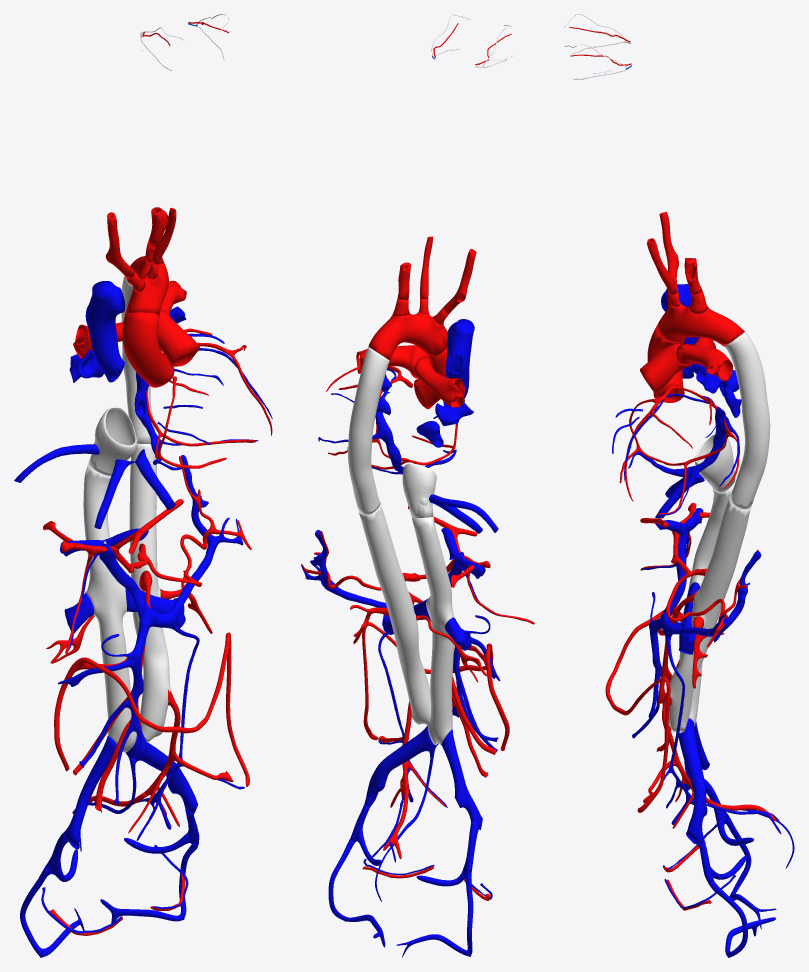
Rendered from vh_f_blood_vasculature-40.fbx.
3 renders of one model, left to right at view 1: azimuth 30°, elevation 25°; view 2: azimuth 150°, elevation 25°; view 3: azimuth 270°, elevation 25°, orthographic. The views are drawn at different scales.
Visible parts, largest first — view 1: VH_F_inferior_vena_cava_b, VH_F_descending_aorta_b, VH_F_superior_vena_cava, VH_F_marginal_artery_of_Drummond, VH_F_ascending_aorta, VH_F_inferior_vena_cava_a, VH_F_splenic_vein, VH_F_aortic_arch, VH_F_left_common_iliac_vein, VH_F_pulmonary_trunk, VH_F_right_common_iliac_vein, VH_F_descending_aorta_a (+14 smaller); view 2: VH_F_descending_aorta_b, VH_F_inferior_vena_cava_b, VH_F_descending_aorta_a, VH_F_aortic_arch, VH_F_superior_vena_cava, VH_F_inferior_vena_cava_a, VH_F_left_common_iliac_vein, VH_F_marginal_artery_of_Drummond, VH_F_pulmonary_artery_R, VH_F_right_common_iliac_vein, VH_F_splenic_vein, VH_F_ascending_aorta (+6 smaller); view 3: VH_F_descending_aorta_b, VH_F_descending_aorta_a, VH_F_aortic_arch, VH_F_inferior_vena_cava_b, VH_F_left_common_iliac_vein, VH_F_marginal_artery_of_Drummond, VH_F_splenic_vein, VH_F_pulmonary_artery_L, VH_F_inferior_vena_cava_a, VH_F_pulmonary_trunk, VH_F_ascending_aorta, VH_F_splenic_artery (+11 smaller).
Boxes of the visible parts, left/top/right/bottom form: VH_F_inferior_vena_cava_b: left=83, top=463, right=136, bottom=752; VH_F_descending_aorta_b: left=129, top=443, right=170, bottom=742; VH_F_superior_vena_cava: left=85, top=281, right=125, bottom=382; VH_F_marginal_artery_of_Drummond: left=54, top=632, right=249, bottom=786; VH_F_ascending_aorta: left=122, top=312, right=174, bottom=387; VH_F_inferior_vena_cava_a: left=88, top=406, right=137, bottom=476; VH_F_splenic_vein: left=139, top=455, right=243, bottom=629; VH_F_aortic_arch: left=125, top=256, right=168, bottom=315; VH_F_left_common_iliac_vein: left=125, top=733, right=197, bottom=815; VH_F_pulmonary_trunk: left=158, top=309, right=199, bottom=366; VH_F_right_common_iliac_vein: left=64, top=736, right=116, bottom=849; VH_F_descending_aorta_a: left=121, top=275, right=154, bottom=444; VH_F_descending_aorta_b: left=359, top=503, right=430, bottom=725; VH_F_inferior_vena_cava_b: left=412, top=516, right=454, bottom=744; VH_F_descending_aorta_a: left=348, top=347, right=389, bottom=514; VH_F_aortic_arch: left=368, top=312, right=447, bottom=360; VH_F_superior_vena_cava: left=443, top=319, right=474, bottom=406; VH_F_inferior_vena_cava_a: left=402, top=463, right=436, bottom=517; VH_F_left_common_iliac_vein: left=364, top=724, right=438, bottom=805; VH_F_marginal_artery_of_Drummond: left=362, top=621, right=509, bottom=751; VH_F_pulmonary_artery_R: left=413, top=356, right=464, bottom=407; VH_F_right_common_iliac_vein: left=441, top=729, right=482, bottom=829; VH_F_splenic_vein: left=301, top=530, right=386, bottom=607; VH_F_ascending_aorta: left=414, top=347, right=447, bottom=409; VH_F_descending_aorta_b: left=668, top=497, right=751, bottom=732; VH_F_descending_aorta_a: left=723, top=332, right=770, bottom=509; VH_F_aortic_arch: left=657, top=303, right=744, bottom=345; VH_F_inferior_vena_cava_b: left=679, top=478, right=735, bottom=726; VH_F_left_common_iliac_vein: left=678, top=718, right=707, bottom=843; VH_F_marginal_artery_of_Drummond: left=605, top=610, right=682, bottom=812; VH_F_splenic_vein: left=660, top=551, right=761, bottom=642; VH_F_pulmonary_artery_L: left=676, top=343, right=732, bottom=381; VH_F_inferior_vena_cava_a: left=695, top=434, right=735, bottom=492; VH_F_pulmonary_trunk: left=640, top=343, right=694, bottom=394; VH_F_ascending_aorta: left=647, top=324, right=685, bottom=402; VH_F_splenic_artery: left=666, top=549, right=758, bottom=647.
Size of the model in its own units: 19.27 by 79.9 by 18.47.
